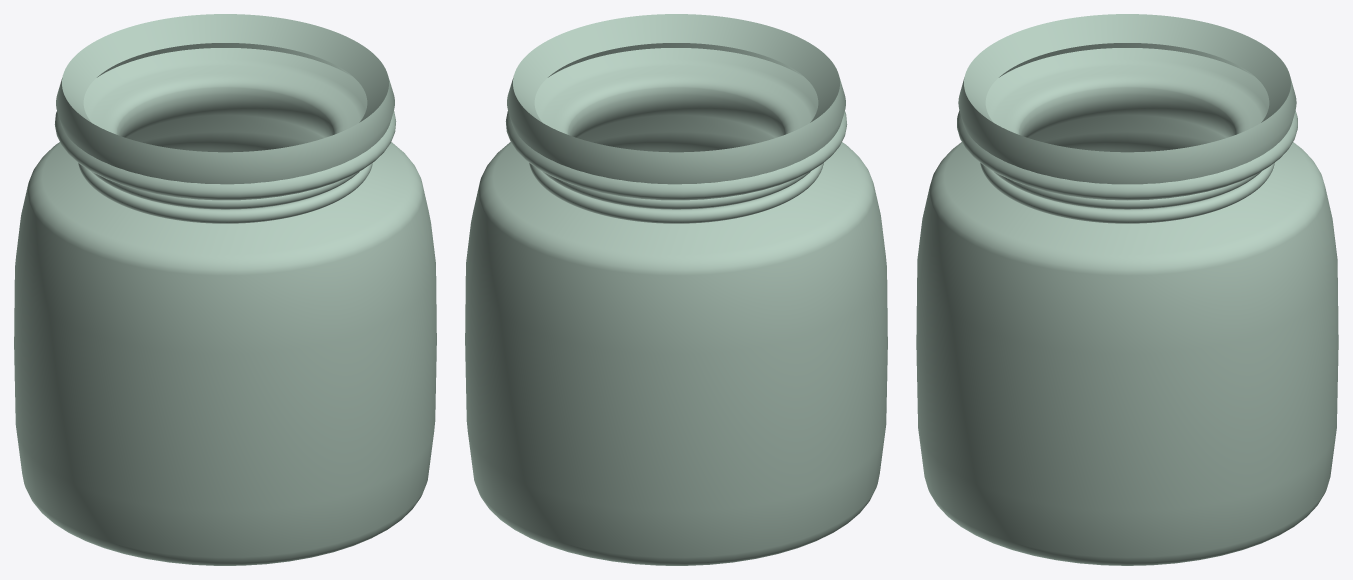
File: jar.fbx
The picture shows the model from 3 angles, left to right: view 1: azimuth 30°, elevation 25°; view 2: azimuth 150°, elevation 25°; view 3: azimuth 270°, elevation 25°; orthographic projection.
Visible parts, largest first — view 1: Lathe, Torus_2, Torus, Torus_1; view 2: Lathe, Torus_2, Torus, Torus_1; view 3: Lathe, Torus_2, Torus, Torus_1.
Part boxes in pixels (x1=…): Lathe: x1=14, y1=48, x2=436, y2=565; Torus_2: x1=56, y1=14, x2=394, y2=184; Torus: x1=78, y1=163, x2=372, y2=223; Torus_1: x1=91, y1=171, x2=359, y2=209; Lathe: x1=465, y1=48, x2=887, y2=565; Torus_2: x1=507, y1=14, x2=845, y2=184; Torus: x1=529, y1=163, x2=823, y2=223; Torus_1: x1=542, y1=171, x2=810, y2=209; Lathe: x1=916, y1=48, x2=1338, y2=565; Torus_2: x1=958, y1=14, x2=1296, y2=184; Torus: x1=980, y1=162, x2=1274, y2=223; Torus_1: x1=993, y1=171, x2=1261, y2=209.
Size of the model in its own units: 409 by 431 by 408.
